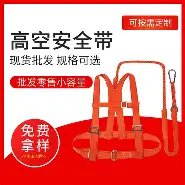safety belt: (70, 68, 181, 163)
